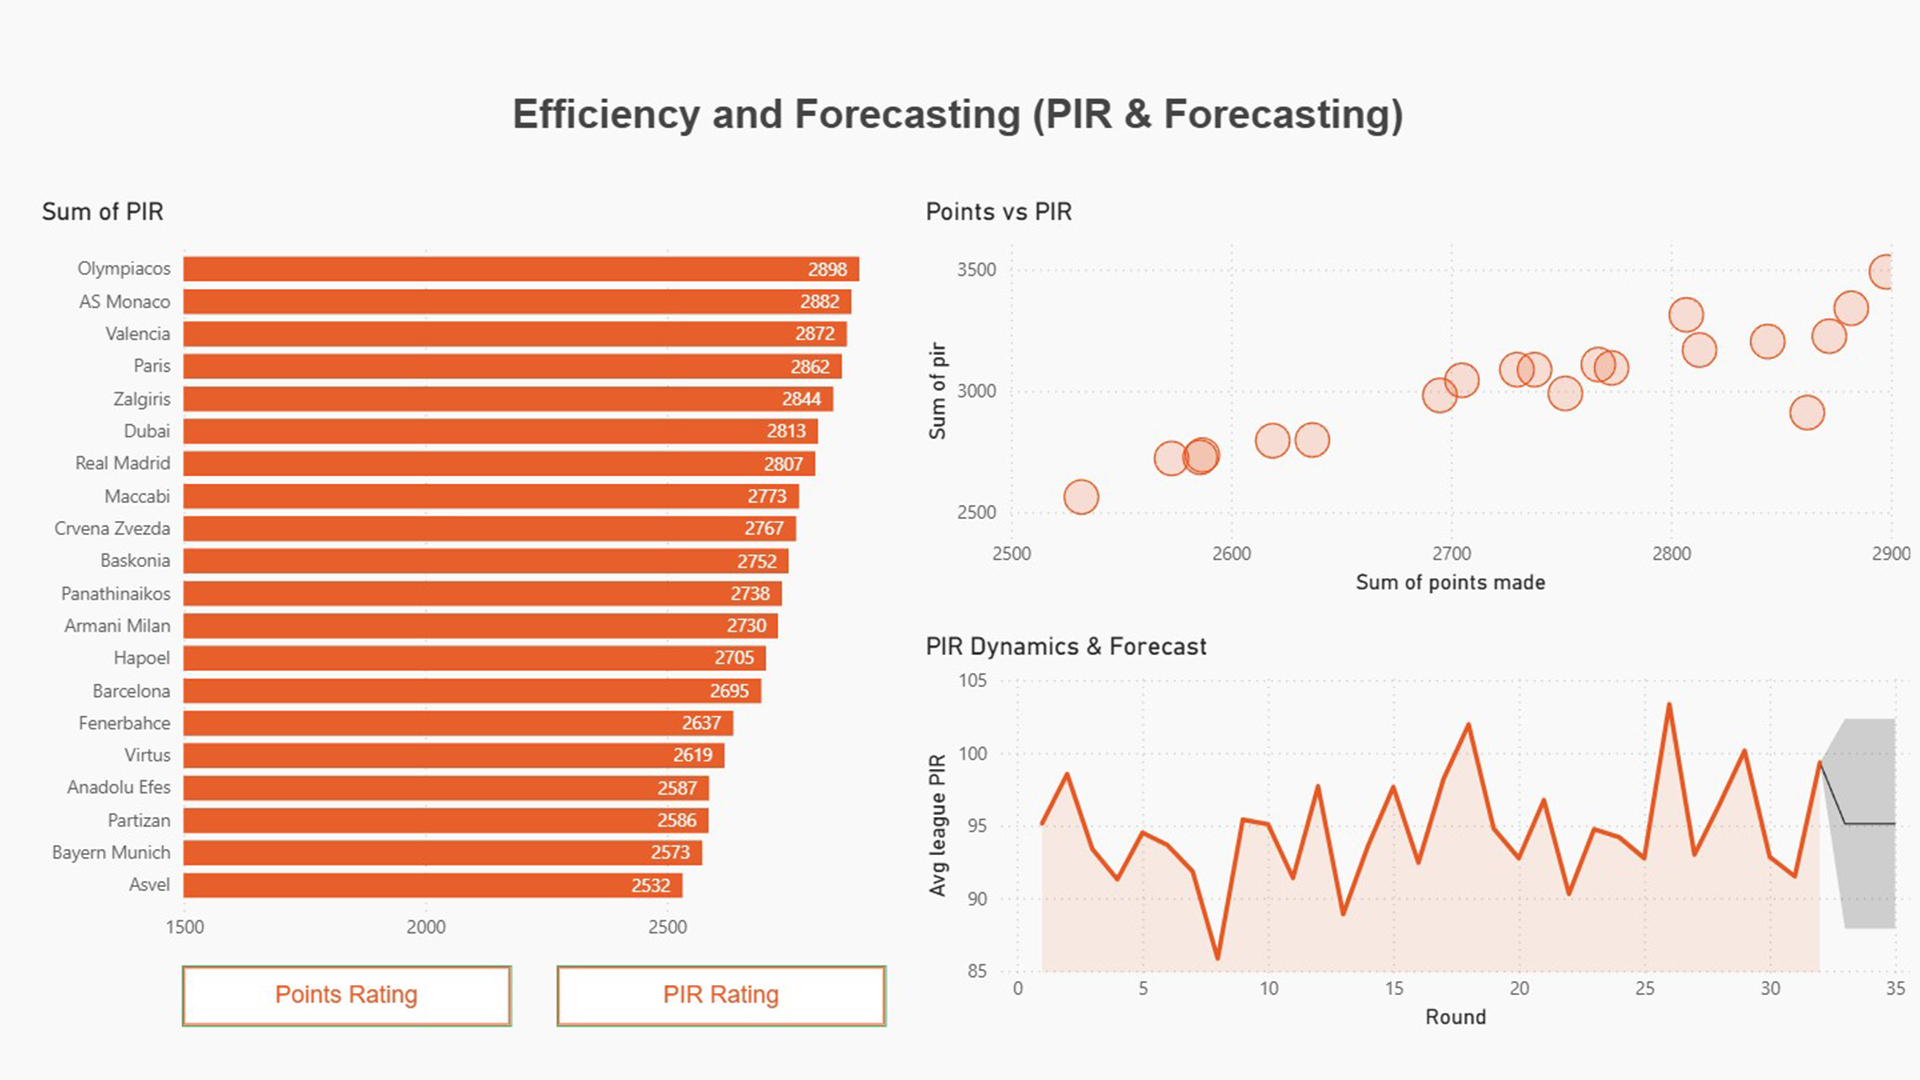

The page's visual inventory and layout, read from the dashboard file:
{"tool":"powerbi","page":{"name":"Efficiency and Forecasting","canvas":[1280,720],"ordinal":3},"visuals":[{"type":"scatterChart","title":"Points vs PIR","fields":{"X":["Sum(Matches_Stat.points made)"],"Y":["Sum(Matches_Stat.pir)"],"Category":["Matches_Stat.Slicer_Team"]},"box":[613.5,160.8,666.5,270],"z":0},{"type":"lineChart","title":"PIR Dynamics & Forecast","fields":{"Category":["Matches.Round_ID"],"Y":["Avg(Matches_Stat.pir)"]},"box":[613.6,450.3,666.4,269.8],"z":1000},{"type":"shape","box":[0,0,1280,60],"z":3000},{"type":"image","box":[24.1,12.5,134.5,34],"z":4000},{"type":"textbox","box":[0,89.6,1280,41.5],"z":5000},{"type":"clusteredBarChart","title":"Sum of PIR","fields":{"Category":["Matches_Stat.Slicer_Team"],"Y":["Sum(Matches_Stat.points made)"]},"box":[24,160.5,568.1,505.5],"z":6000},{"type":"actionButton","title":"Points Rating Btn","box":[123,673.4,219.6,40.6],"z":7000},{"type":"actionButton","title":"PIR Rating Btn","box":[372.2,673.4,219.6,40.6],"z":8000}]}

Visuals, with their boxes in screenshot pixels (x1, y1, x2, y2), scaled from the page's 1280x720 canvas onto the 1920x1080 screenshot:
"Points vs PIR" scatterChart: (920,241,1919,646)
"PIR Dynamics & Forecast" lineChart: (920,675,1919,1079)
shape: (0,0,1919,90)
image: (36,19,238,70)
textbox: (0,134,1919,197)
"Sum of PIR" clusteredBarChart: (36,241,888,999)
"Points Rating Btn" actionButton: (184,1010,514,1071)
"PIR Rating Btn" actionButton: (558,1010,888,1071)
